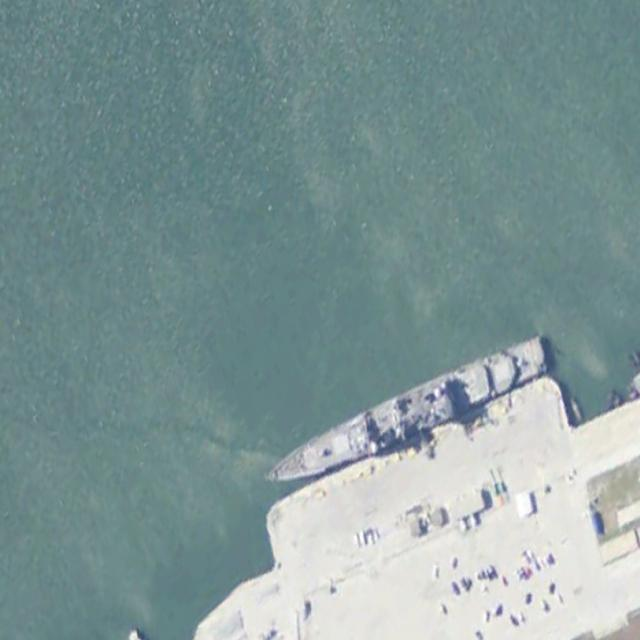Cruiser: (259, 329, 549, 501)
